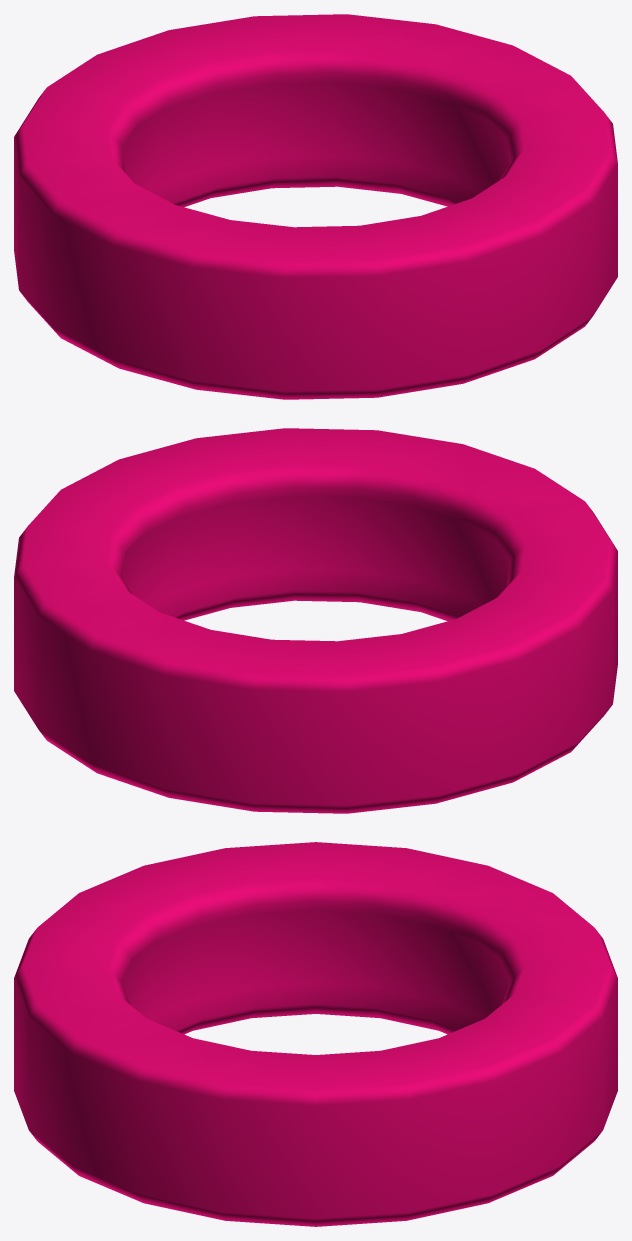
File: Tire_01_Lod0.fbx
3 views of the same model, one above another, from view 1: azimuth 30°, elevation 25°; view 2: azimuth 150°, elevation 25°; view 3: azimuth 270°, elevation 25° (orthographic).
Parts seen in each view (by area): view 1: Tire_01_Lod0; view 2: Tire_01_Lod0; view 3: Tire_01_Lod0.
Part boxes in pixels (x1,y1,x2,y2): Tire_01_Lod0: (14, 14, 617, 399); Tire_01_Lod0: (14, 428, 617, 813); Tire_01_Lod0: (14, 842, 617, 1226).
Bounding box in the file's own units: 86.48 × 21.68 × 86.48.
